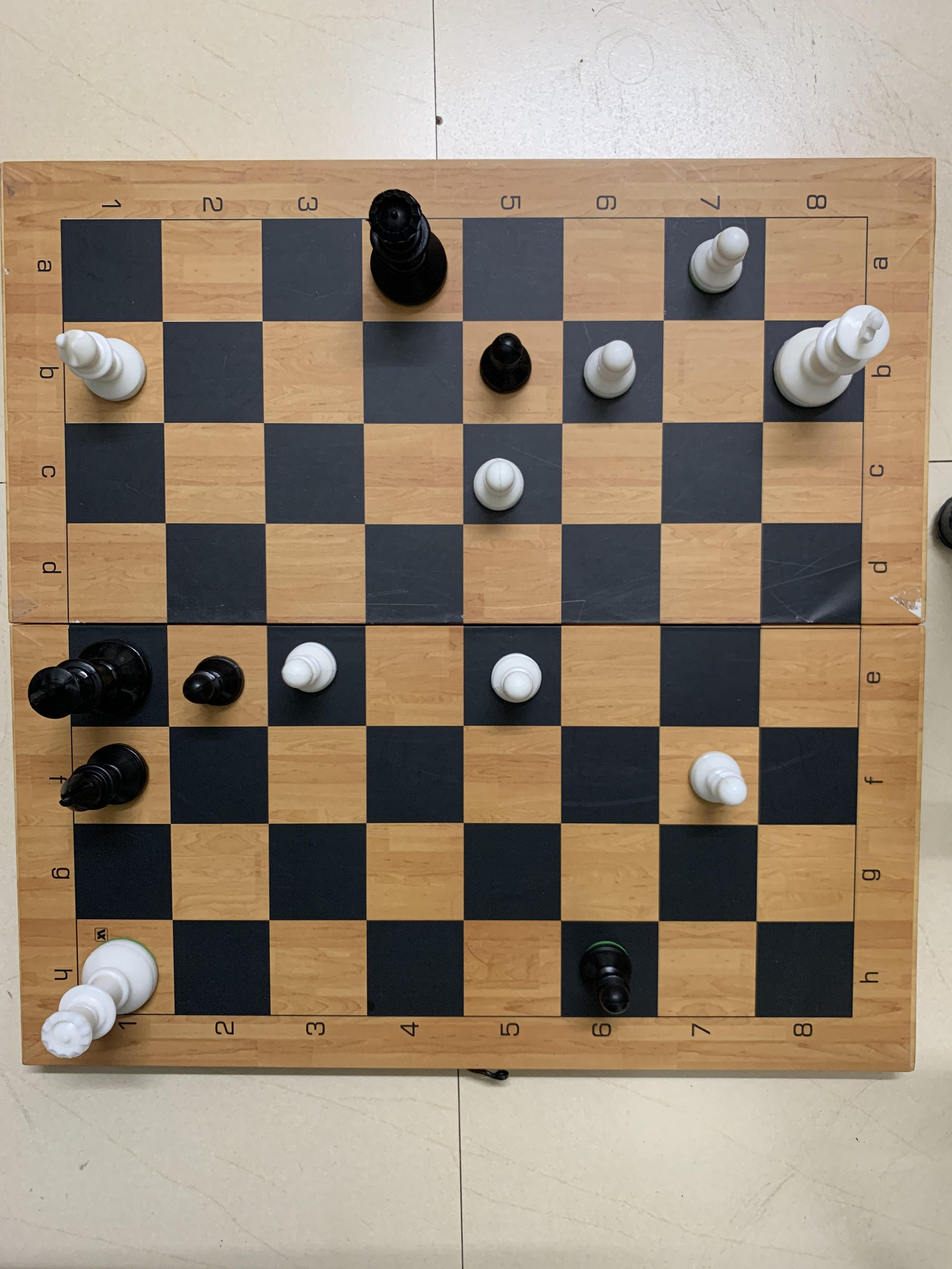black_bishop: (54, 742, 158, 825)
black_king: (17, 619, 161, 737)
black_pawn: (564, 930, 657, 1021), (167, 631, 247, 728), (468, 326, 551, 416)
black_queen: (353, 178, 468, 315)
white_bishop: (44, 310, 167, 420)
white_king: (770, 290, 909, 421)
white_pawn: (261, 628, 353, 726), (464, 430, 556, 522), (573, 326, 657, 426), (461, 633, 547, 720), (667, 737, 752, 822), (674, 228, 755, 300)
white_queen: (44, 913, 176, 1065)
